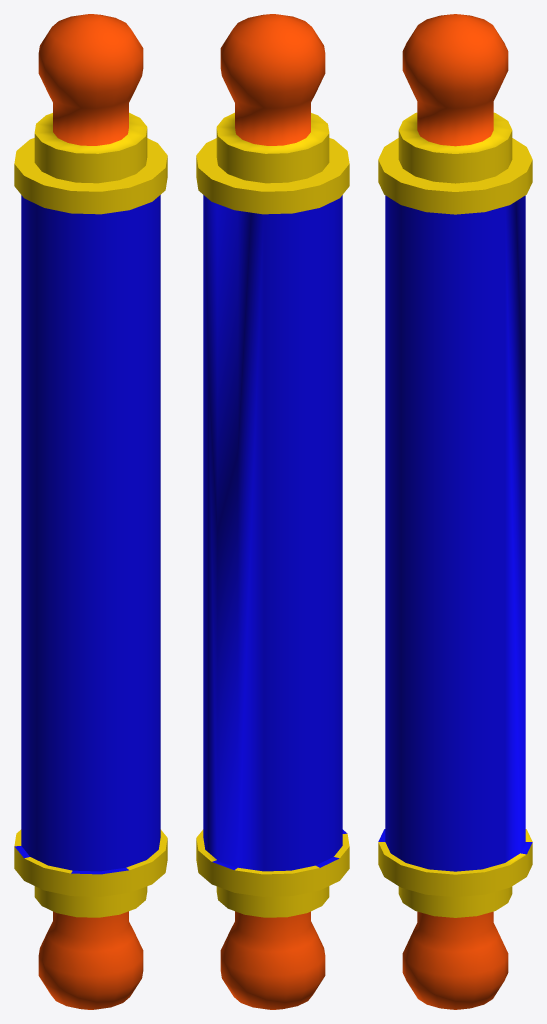
The model's file is Scroll Rolled.fbx.
3 renders of one model, left to right at view 1: azimuth 30°, elevation 25°; view 2: azimuth 150°, elevation 25°; view 3: azimuth 270°, elevation 25°, orthographic.
Parts seen in each view (by area): view 1: rolled_scroll; view 2: rolled_scroll; view 3: rolled_scroll.
Boxes of the visible parts, x1,y1,x2,y2 form: rolled_scroll: (14,14,167,1009); rolled_scroll: (196,14,349,1009); rolled_scroll: (378,14,532,1009).
Bounding box in the file's own units: 10.6 × 74.74 × 10.6.
